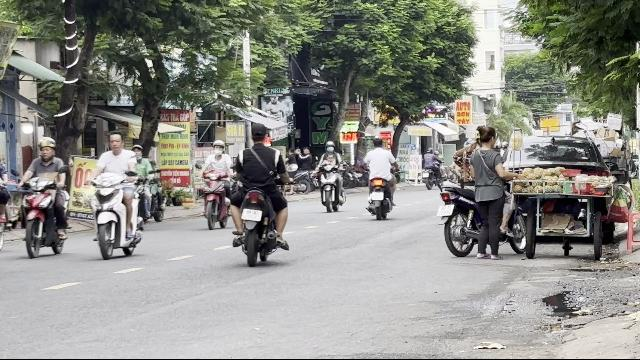helmet: (36, 136, 56, 160), (211, 139, 225, 155)
licenseplate: (242, 208, 262, 222), (438, 205, 454, 215)
motorcyclist: (228, 124, 290, 264), (88, 129, 144, 258), (16, 136, 72, 258), (196, 139, 234, 229)
nohelmet: (250, 124, 268, 144), (107, 132, 123, 152)
